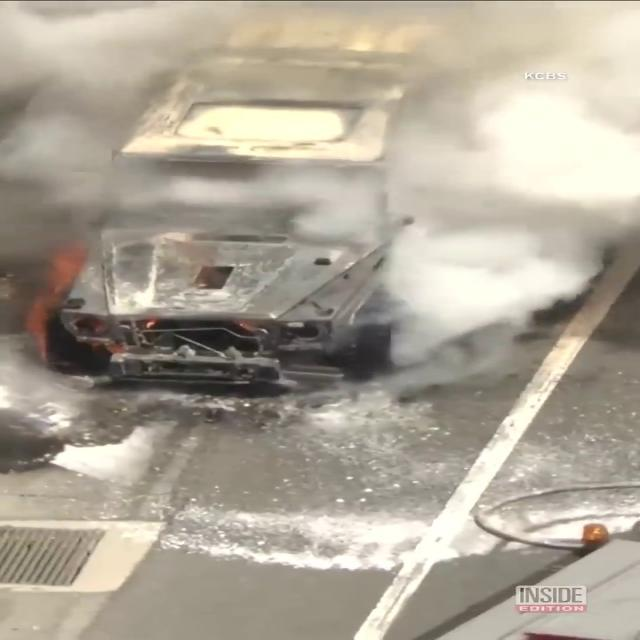Smoke: (2, 1, 640, 327)
